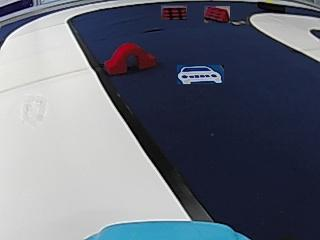bridge: (104, 42, 157, 75)
